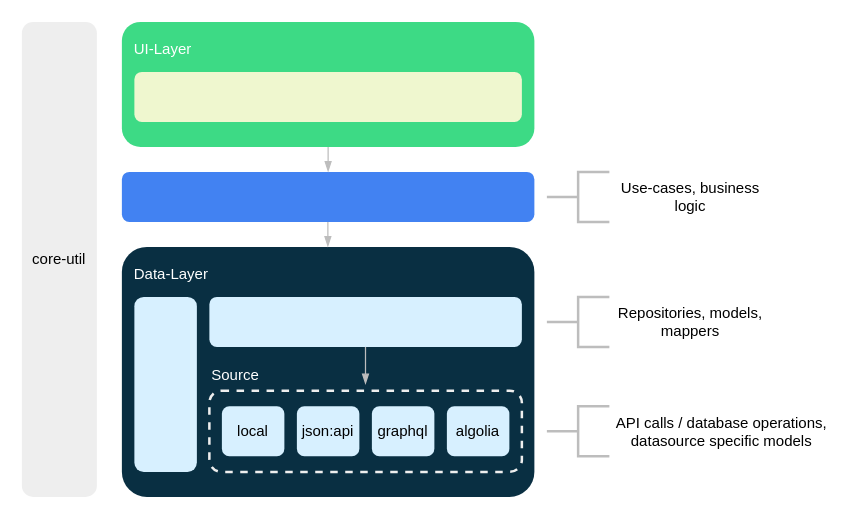
This 855x518 diagram has some shape labels left out. Here are the shapes that lost their labels. From the top down, the centre of each, then its label:
At (x=327, y=96): "app".
At (x=327, y=196): "domain".
At (x=365, y=321): "data (root)".
At (x=165, y=383): "model".
